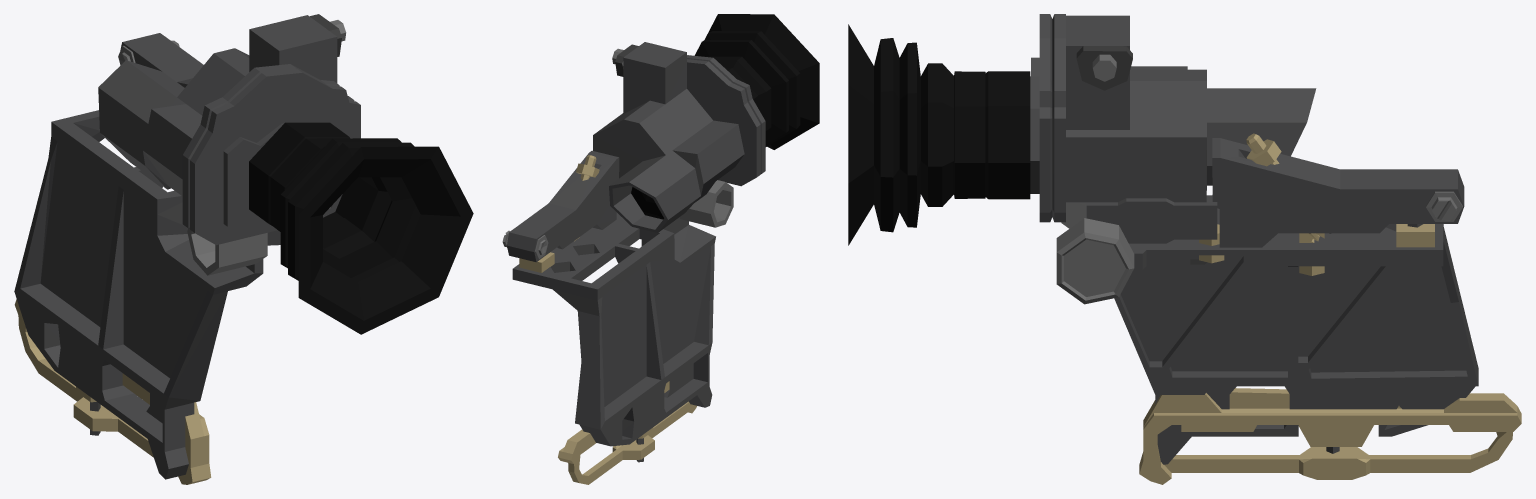
3 renders of one model, left to right at view 1: azimuth 30°, elevation 25°; view 2: azimuth 150°, elevation 25°; view 3: azimuth 270°, elevation 25°, orthographic. The views are drawn at different scales.
Visible parts, largest first — view 1: 1P29, eye_cup; view 2: 1P29, eye_cup; view 3: 1P29, eye_cup.
Boxes of the visible parts, bbox=[...] form: 1P29: bbox=[14, 14, 360, 484]; eye_cup: bbox=[249, 122, 473, 334]; 1P29: bbox=[502, 42, 765, 484]; eye_cup: bbox=[695, 14, 819, 149]; 1P29: bbox=[1030, 14, 1521, 484]; eye_cup: bbox=[848, 24, 1030, 245].
Size of the model in its own units: 6.67 by 14.79 by 18.31.
